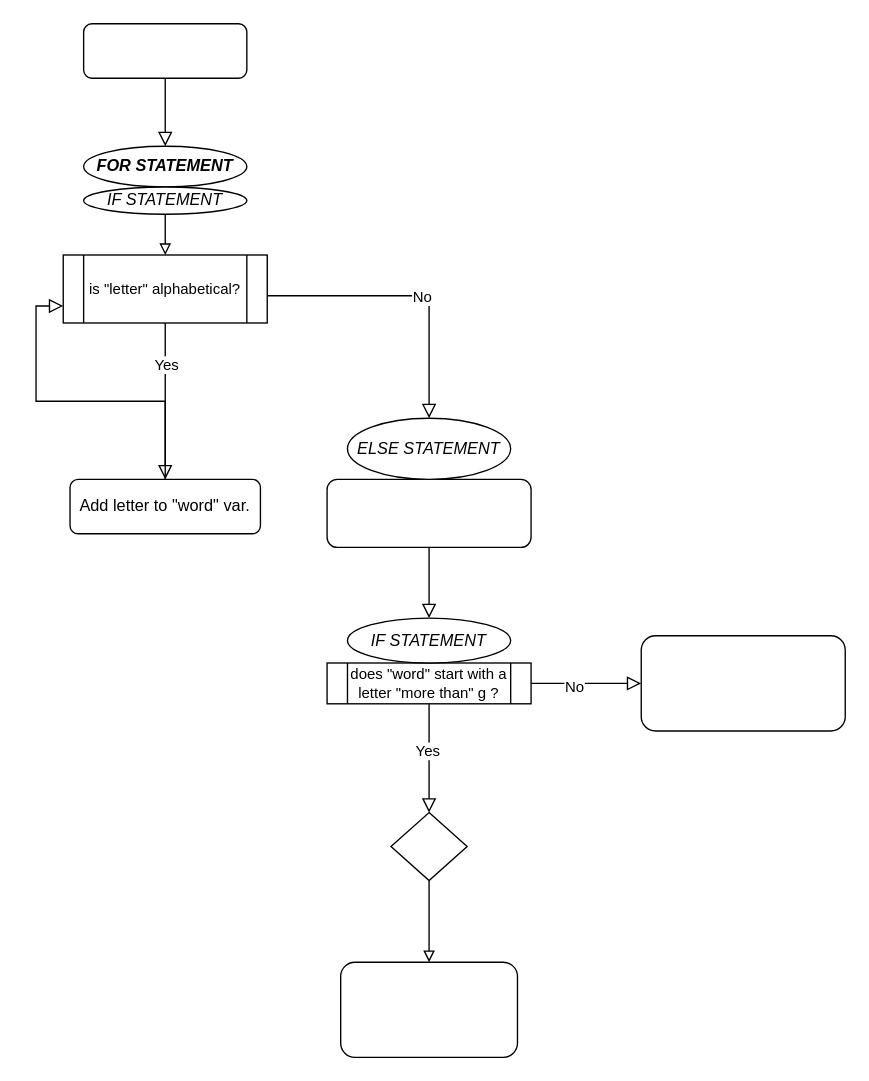
The diagram is 869 pixels wide and 1081 high, and some of its shapes have lost their labels. The shapes that lost their labels are listed below. From the top down, each one's centre as x and y in pixels, then its label:
(x=164, y=50): prompt user input quote
(x=428, y=512): append "word" to new_quote, add blank space to new_quote
(x=428, y=846): continue
